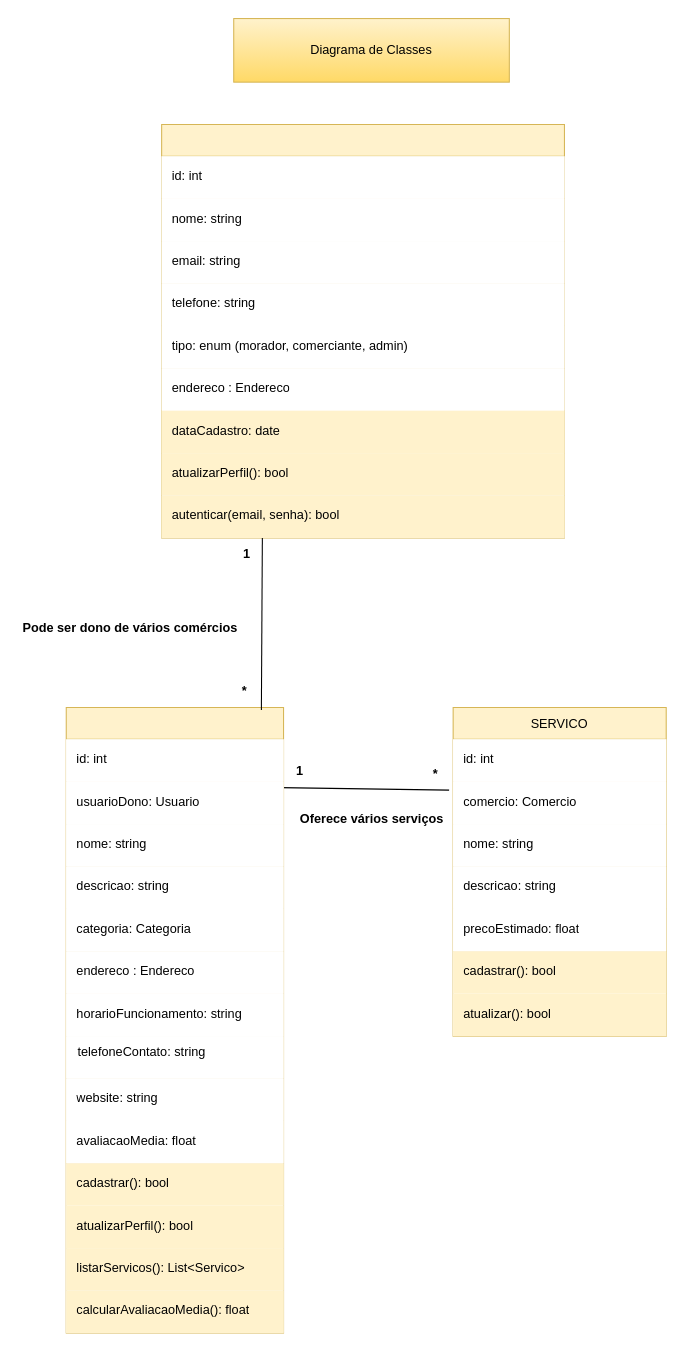
The diagram is 685 pixels wide and 1351 high, and some of its shapes have lost their labels. Each missing label, with the box of its shape:
COMERCIO: (65, 706, 284, 1333)
USUARIO: (161, 123, 564, 538)
